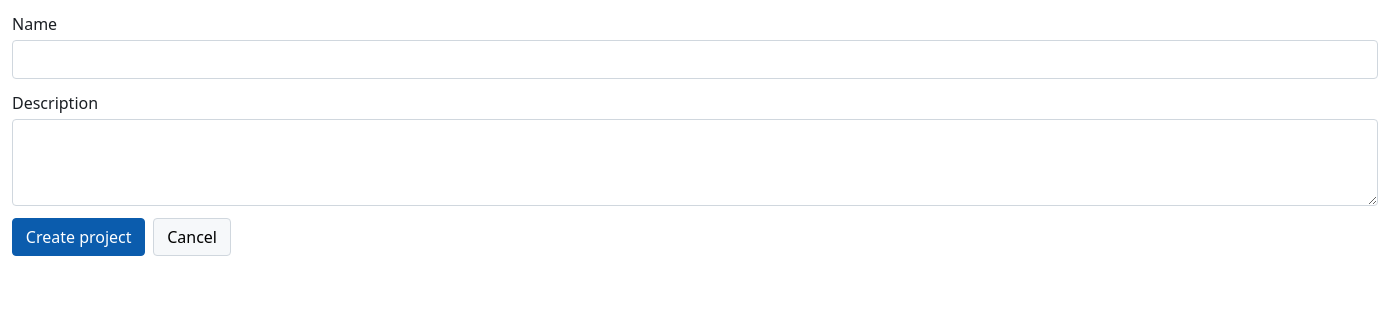
Test: a server rejection that maps to a field › is announced and focused too, and what was typed is kept
Type "Payments" into the field labelled "Name".
click(695, 59); type("Payments")  # box 12,40 -> 1378,79
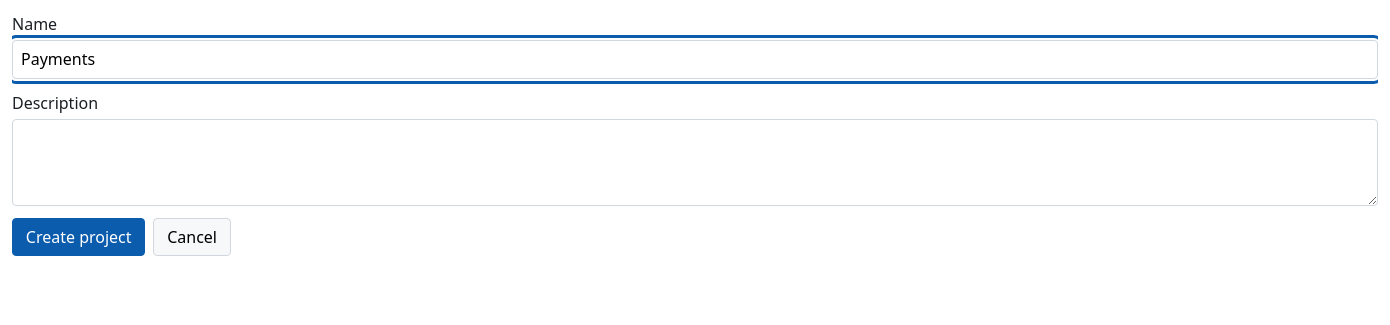
Type "kept" into the text box labelled "Description".
click(695, 162); type("kept")  # box 12,119 -> 1378,206
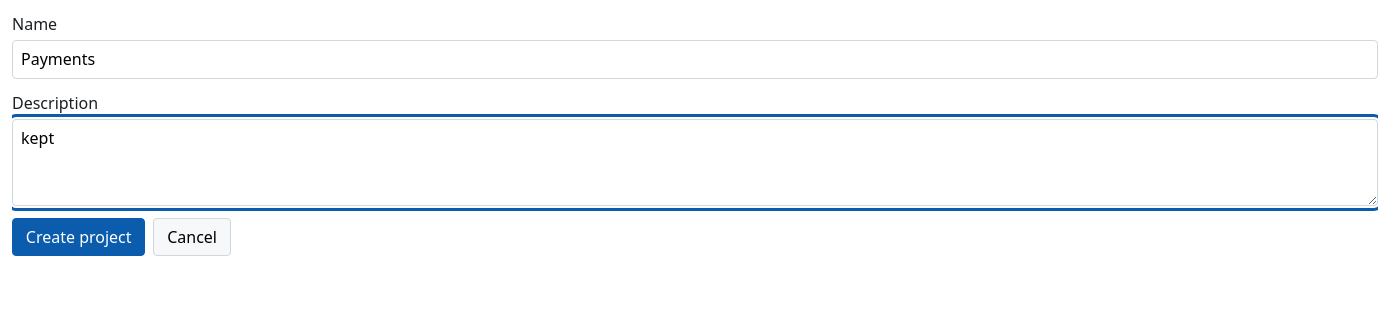
Click the button "Create project".
click(79, 237)  # box 12,218 -> 145,256
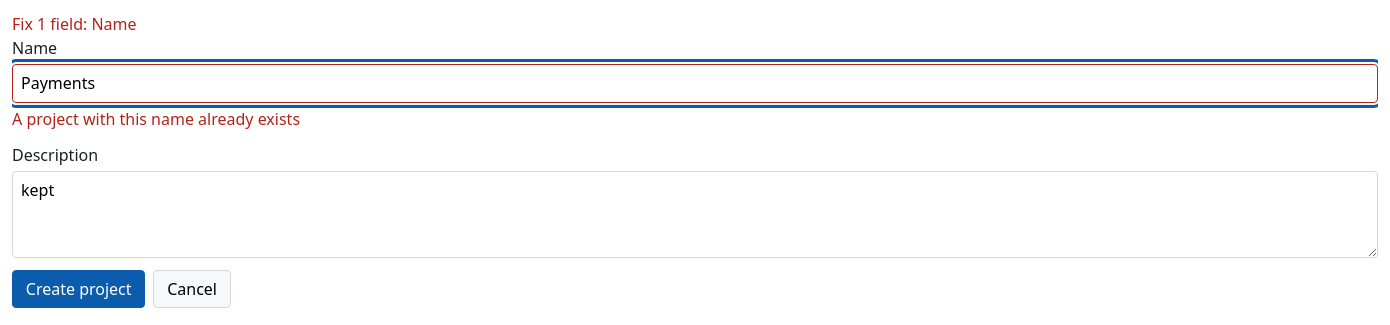
Check: the message reads "Fix 1 field: Name", box 12,13 -> 137,35
